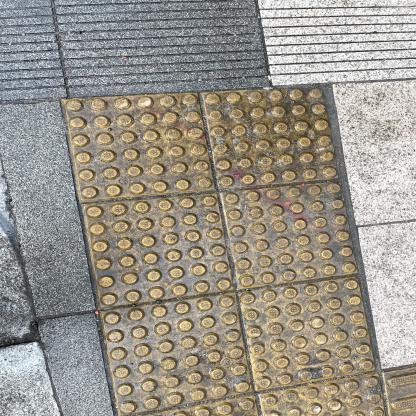podotacti: (50, 77, 416, 416)
